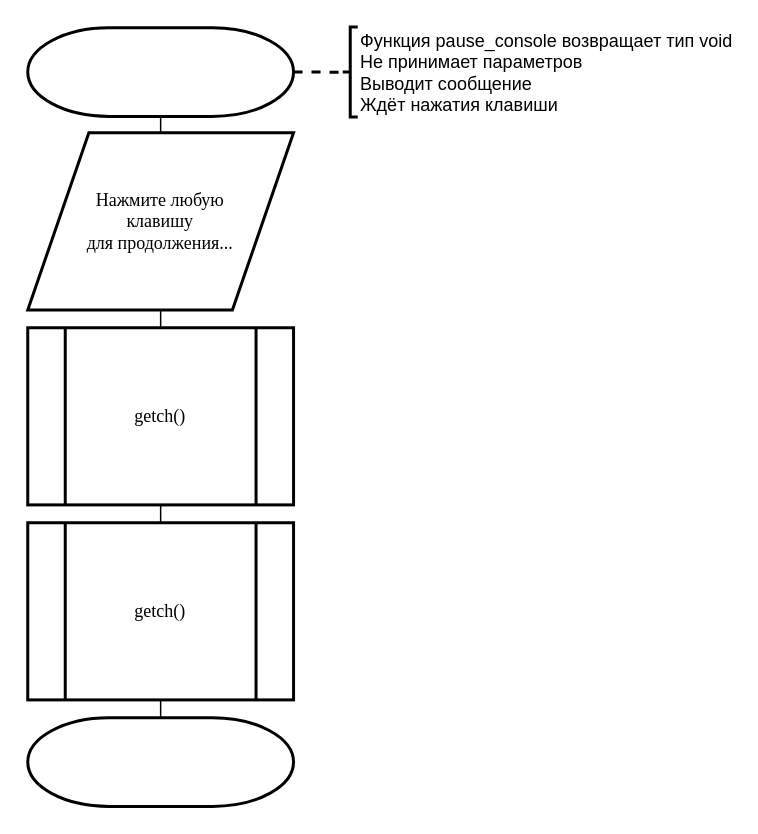
This 758x834 diagram has some shape labels left out. Here are the shapes that lost their labels. From the top down, the box of each, then its label:
(26, 26, 294, 117): void pause_console()
(26, 716, 294, 807): Конец
